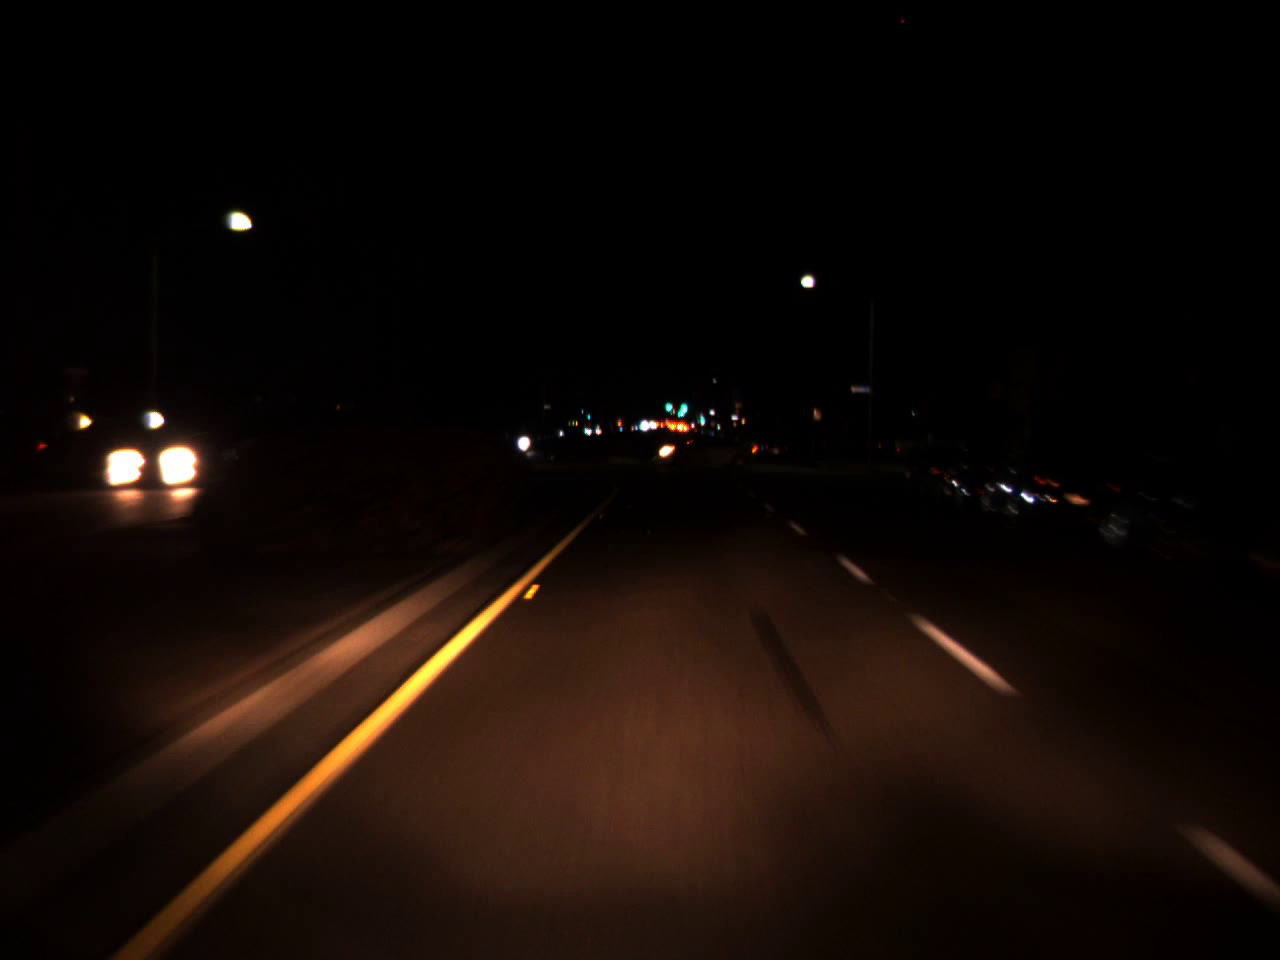go: (673, 390, 689, 417), (663, 396, 673, 414)
